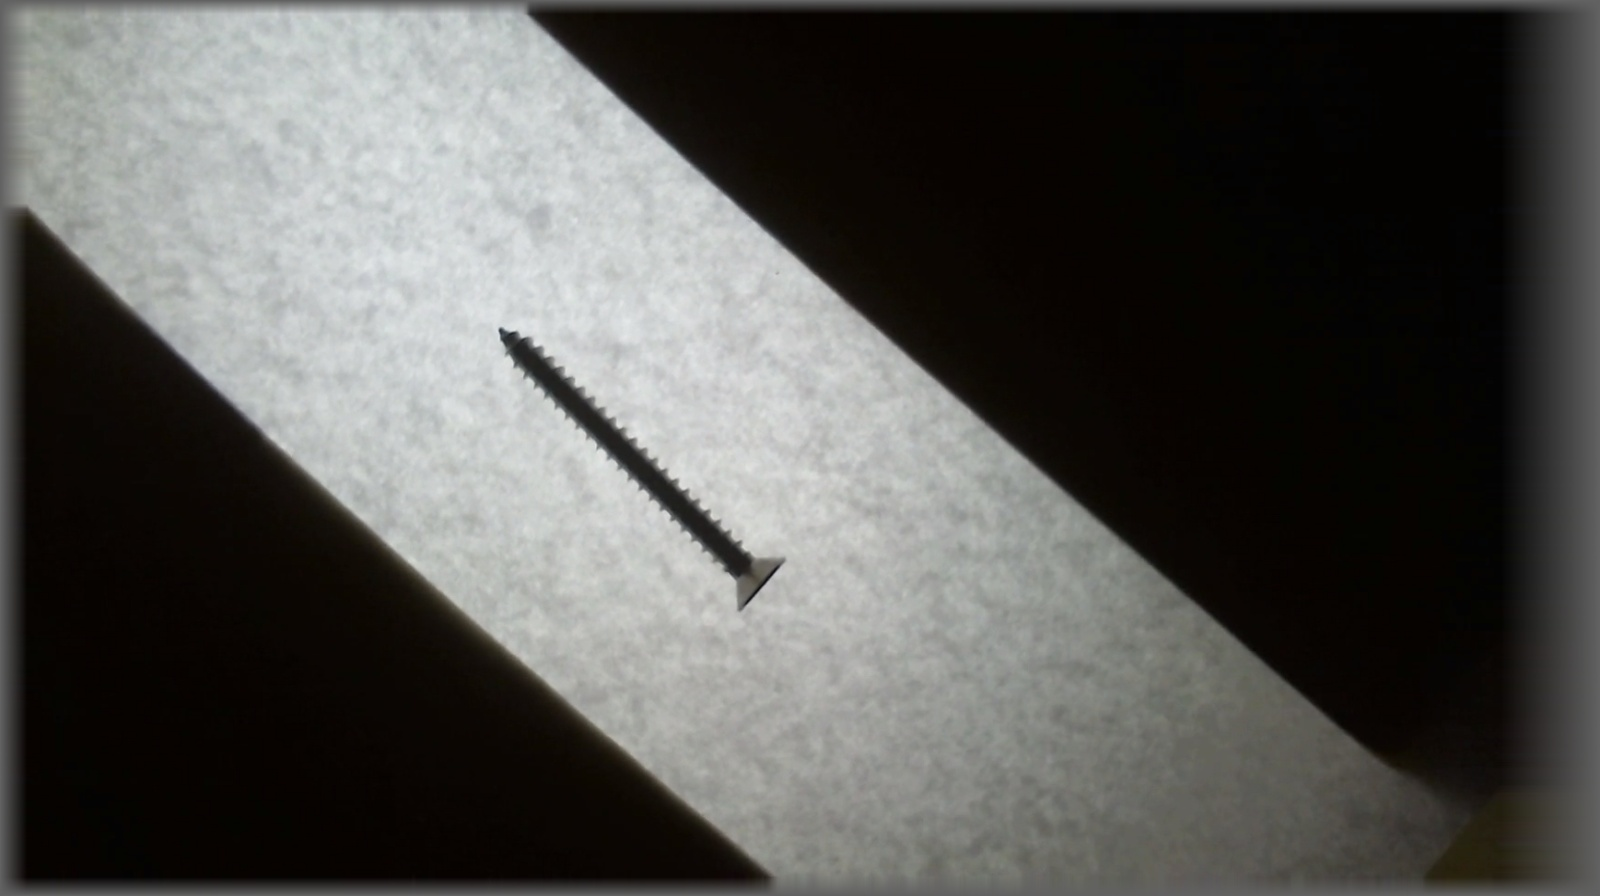S002: (491, 316, 791, 617)
